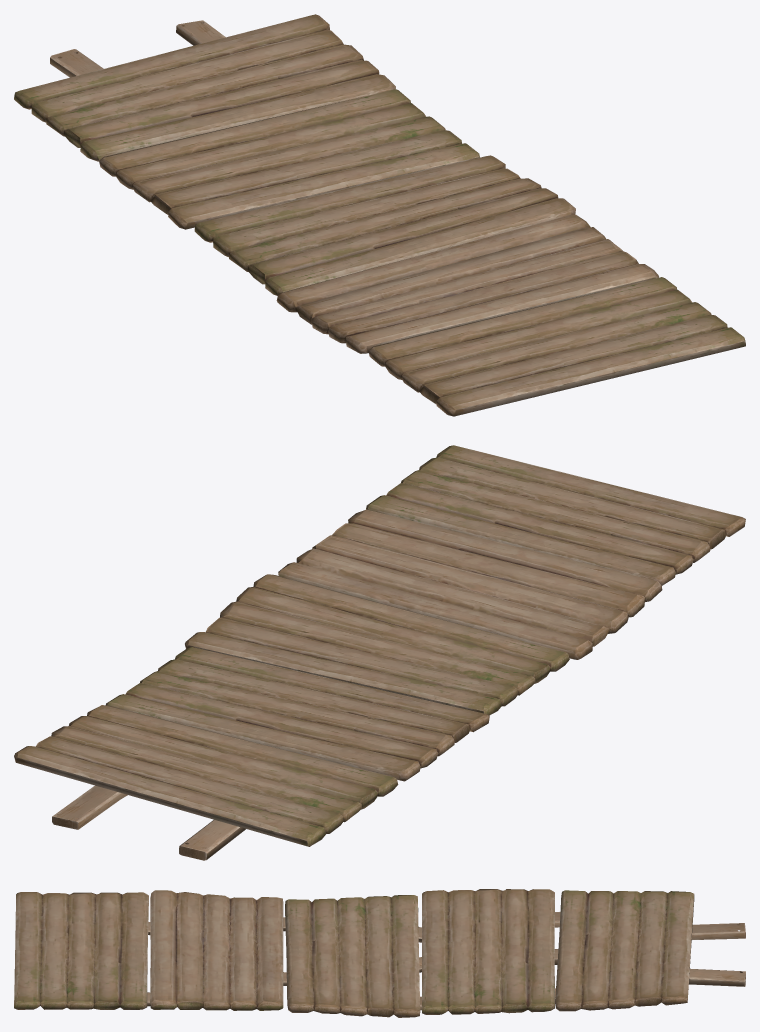
The model's file is Scaffolding_path_02.fbx.
3 views of the same model, one above another, from view 1: azimuth 30°, elevation 25°; view 2: azimuth 150°, elevation 25°; view 3: azimuth 270°, elevation 25° (orthographic). The views are drawn at different scales.
Visible parts, largest first — view 1: Scaffolding_path_02_LOD0; view 2: Scaffolding_path_02_LOD0; view 3: Scaffolding_path_02_LOD0.
Part boxes in pixels (x1,y1,x2,y2): Scaffolding_path_02_LOD0: [14, 14, 745, 416]; Scaffolding_path_02_LOD0: [14, 445, 745, 860]; Scaffolding_path_02_LOD0: [14, 889, 745, 1017].
Size of what is drawn, in the model's own units: 2.03 by 0.211 by 5.37.
